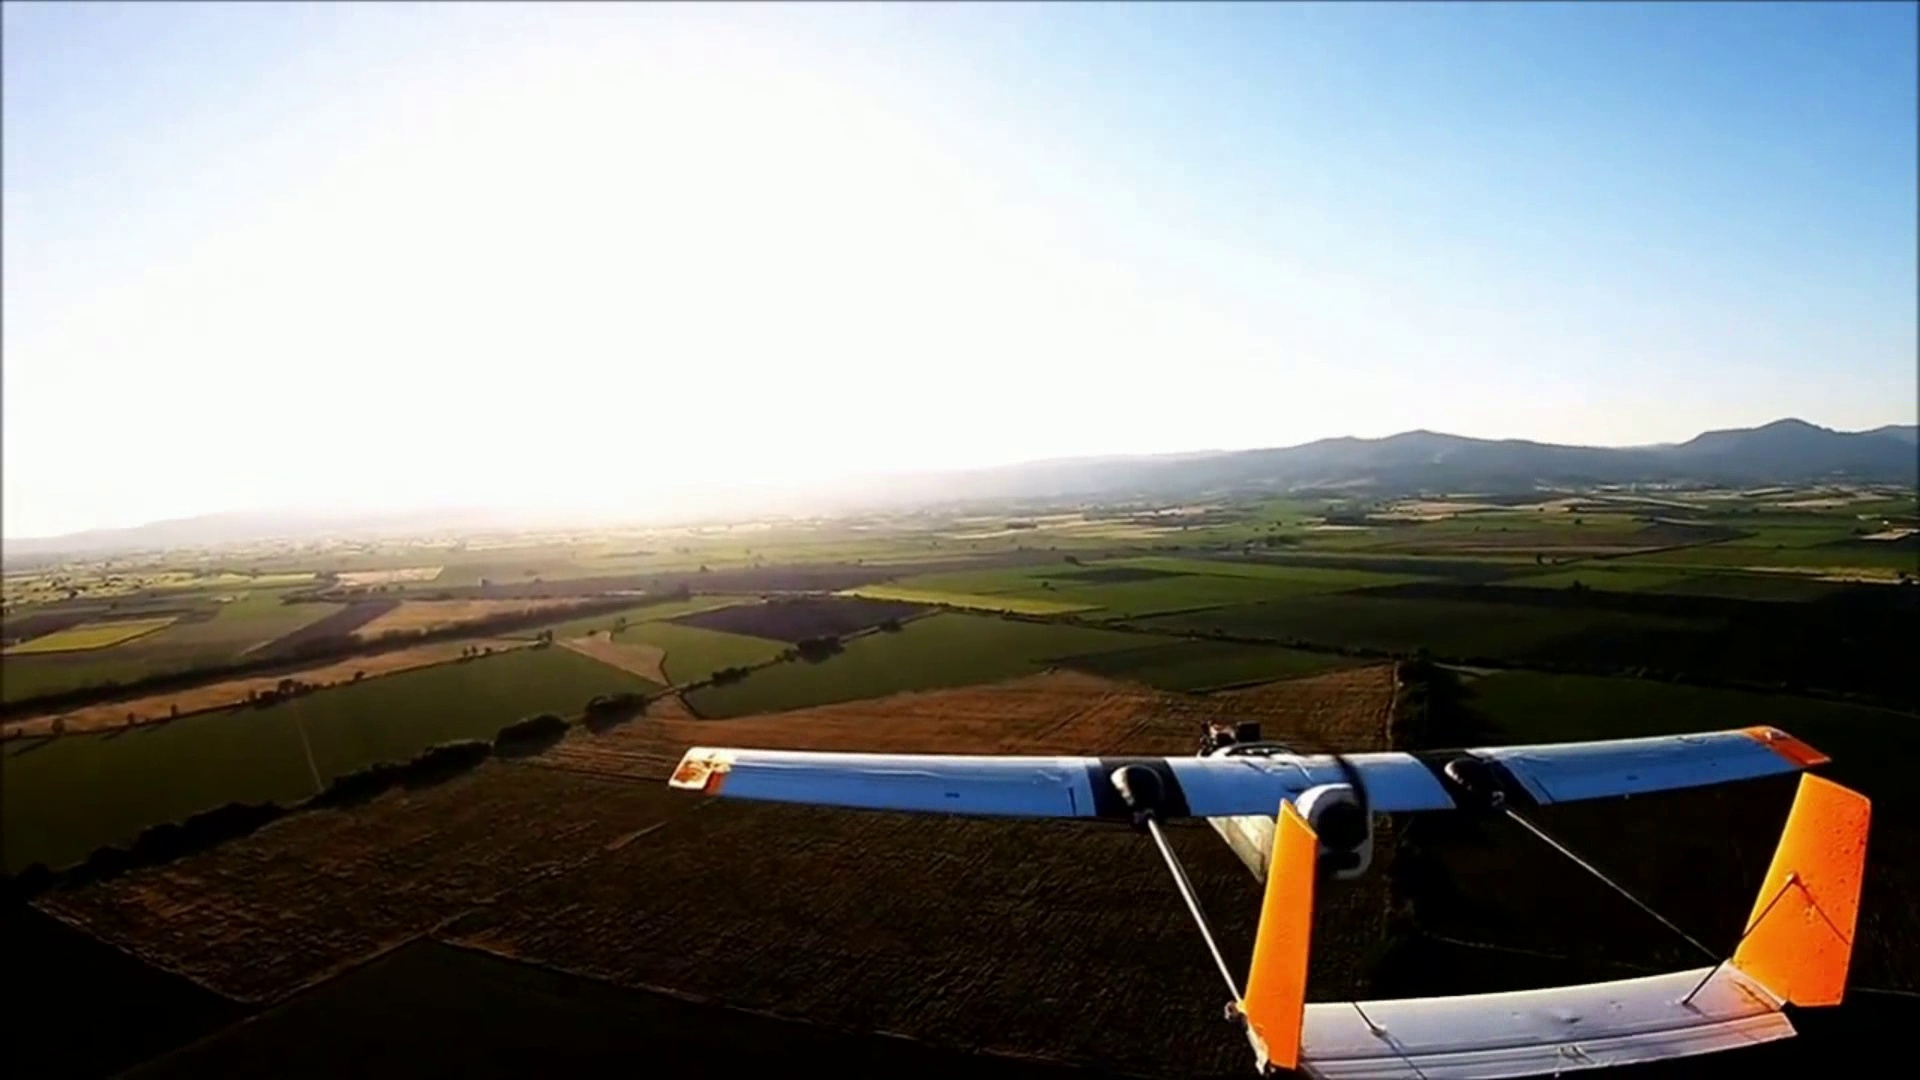airplane: (673, 721, 1876, 1068)
